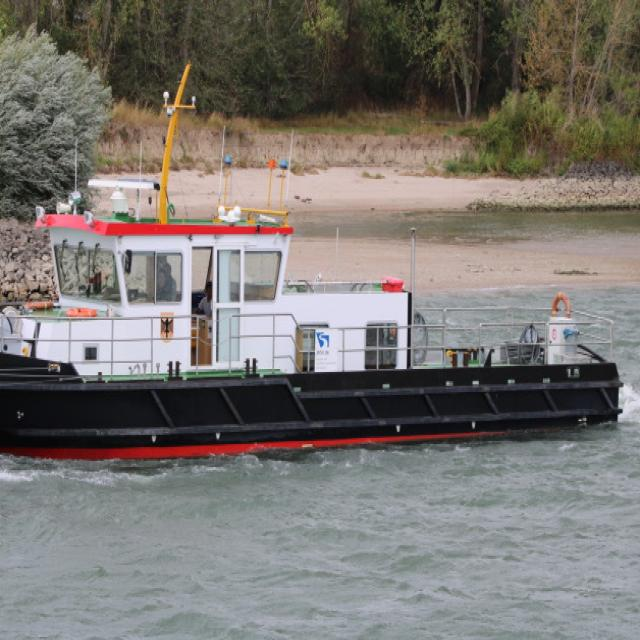tugboat: (1, 169, 628, 471)
